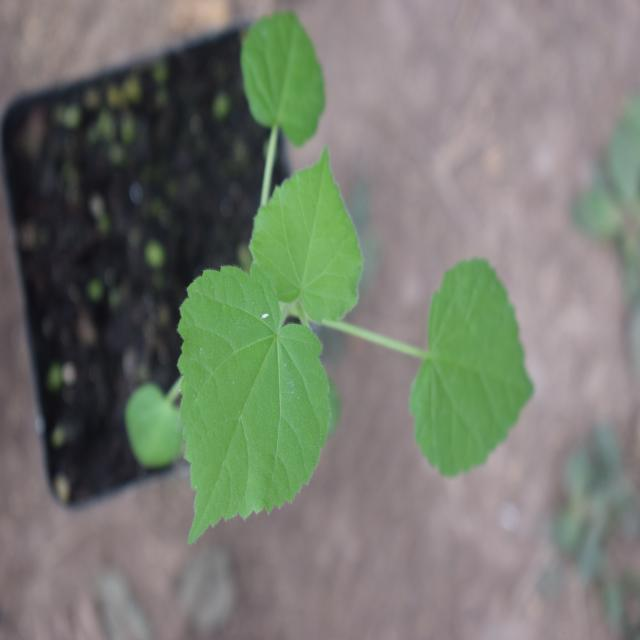abutilon theophrasti: (172, 18, 535, 530)
